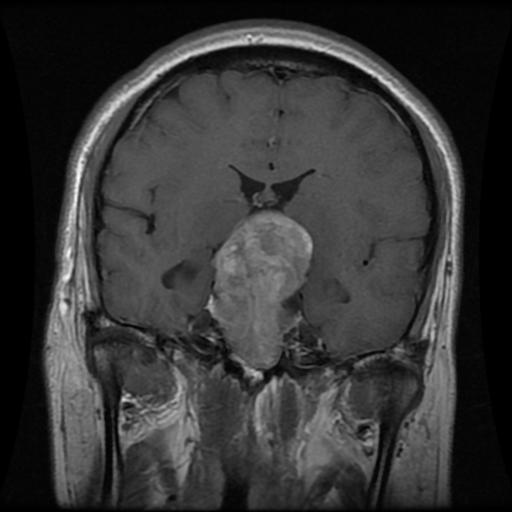Pituirity_tumour: (210, 213, 312, 366)
